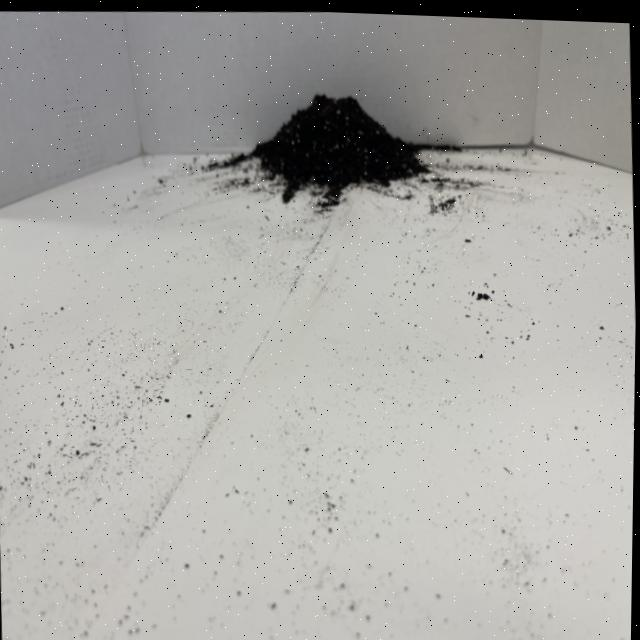soil: (226, 42, 456, 225)
